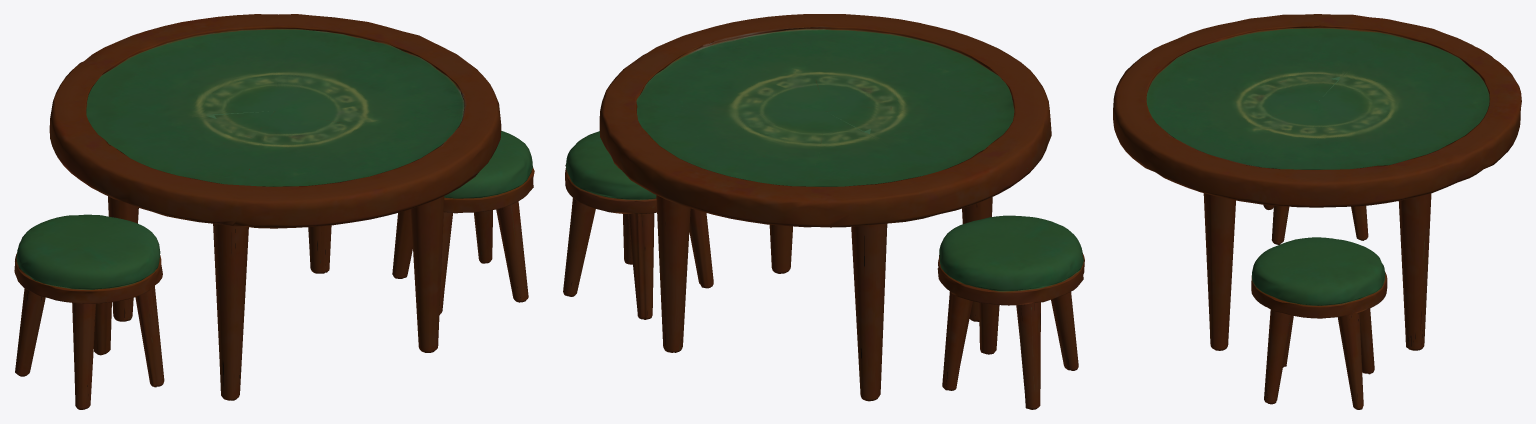
The model's file is duel_table.glb.
3 views of the same model, side by side, from view 1: azimuth 30°, elevation 25°; view 2: azimuth 150°, elevation 25°; view 3: azimuth 270°, elevation 25° (orthographic). The views are drawn at different scales.
Visible parts, largest first — view 1: geometry_0; view 2: geometry_0; view 3: geometry_0.
Boxes of the visible parts, box(x1,y1,x2,y2) form: geometry_0: box(14, 14, 534, 409); geometry_0: box(563, 14, 1084, 409); geometry_0: box(1113, 14, 1521, 409).
Bounding box in the file's own units: 0.9497 × 0.4146 × 0.7407.
1 material, 1 textured.
